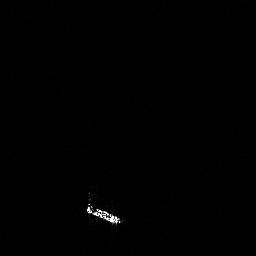ship: (84, 201, 123, 226)
